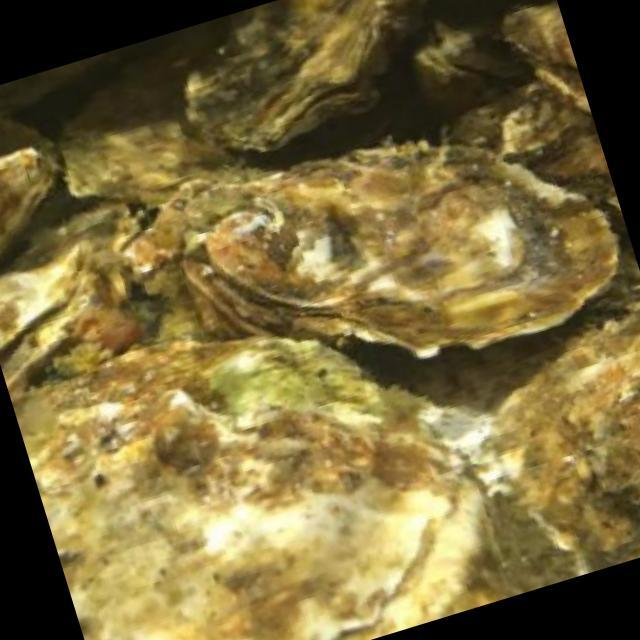Oyster- Indeterminate: (9, 349, 475, 640), (177, 148, 615, 349), (470, 315, 640, 596), (0, 143, 52, 249)
Oyster-Closed: (191, 0, 416, 140)
Oyster-Open: (0, 245, 97, 390)
